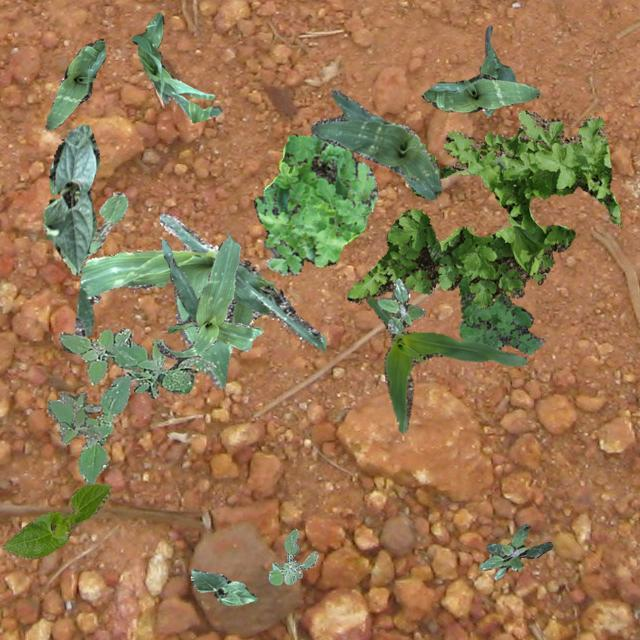crop: (72, 212, 324, 386), (366, 296, 528, 432), (310, 88, 440, 198), (156, 232, 262, 358), (130, 12, 222, 122), (42, 123, 98, 274), (1, 482, 110, 558), (44, 38, 104, 128), (420, 72, 540, 111), (478, 24, 514, 114), (84, 192, 126, 258), (190, 568, 256, 604)
weed: (344, 110, 620, 306), (46, 326, 216, 484), (252, 133, 376, 274), (458, 274, 544, 354), (478, 522, 552, 578), (268, 528, 316, 584), (376, 278, 424, 332), (58, 391, 102, 444)
